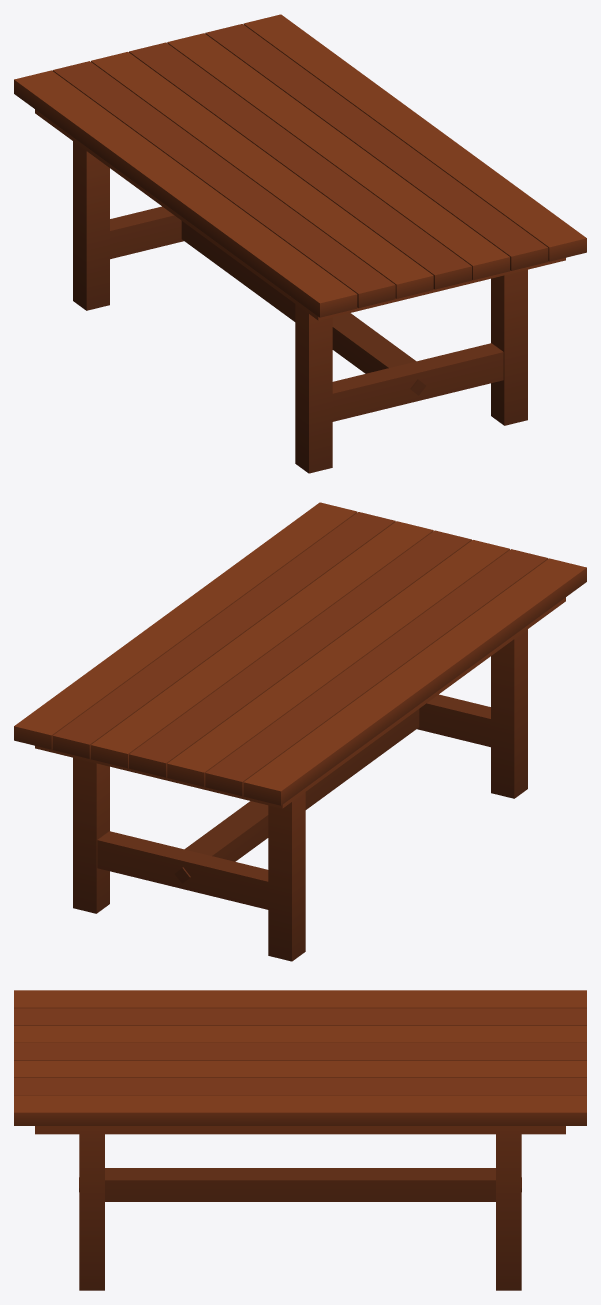
The model's file is Prop_Wooden_Table_03.obj.
The picture shows the model from 3 angles, top to bottom: view 1: azimuth 30°, elevation 25°; view 2: azimuth 150°, elevation 25°; view 3: azimuth 270°, elevation 25°; orthographic projection. The views are drawn at different scales.
Visible parts, largest first — view 1: Prop_Wooden_Table_03; view 2: Prop_Wooden_Table_03; view 3: Prop_Wooden_Table_03.
Boxes of the visible parts, x1,y1,x2,y2 form: Prop_Wooden_Table_03: (14,14,586,473); Prop_Wooden_Table_03: (14,502,586,961); Prop_Wooden_Table_03: (14,990,586,1290).
Size of the model in its own units: 1.21 by 0.8727 by 2.4.
1 material, 1 textured.
